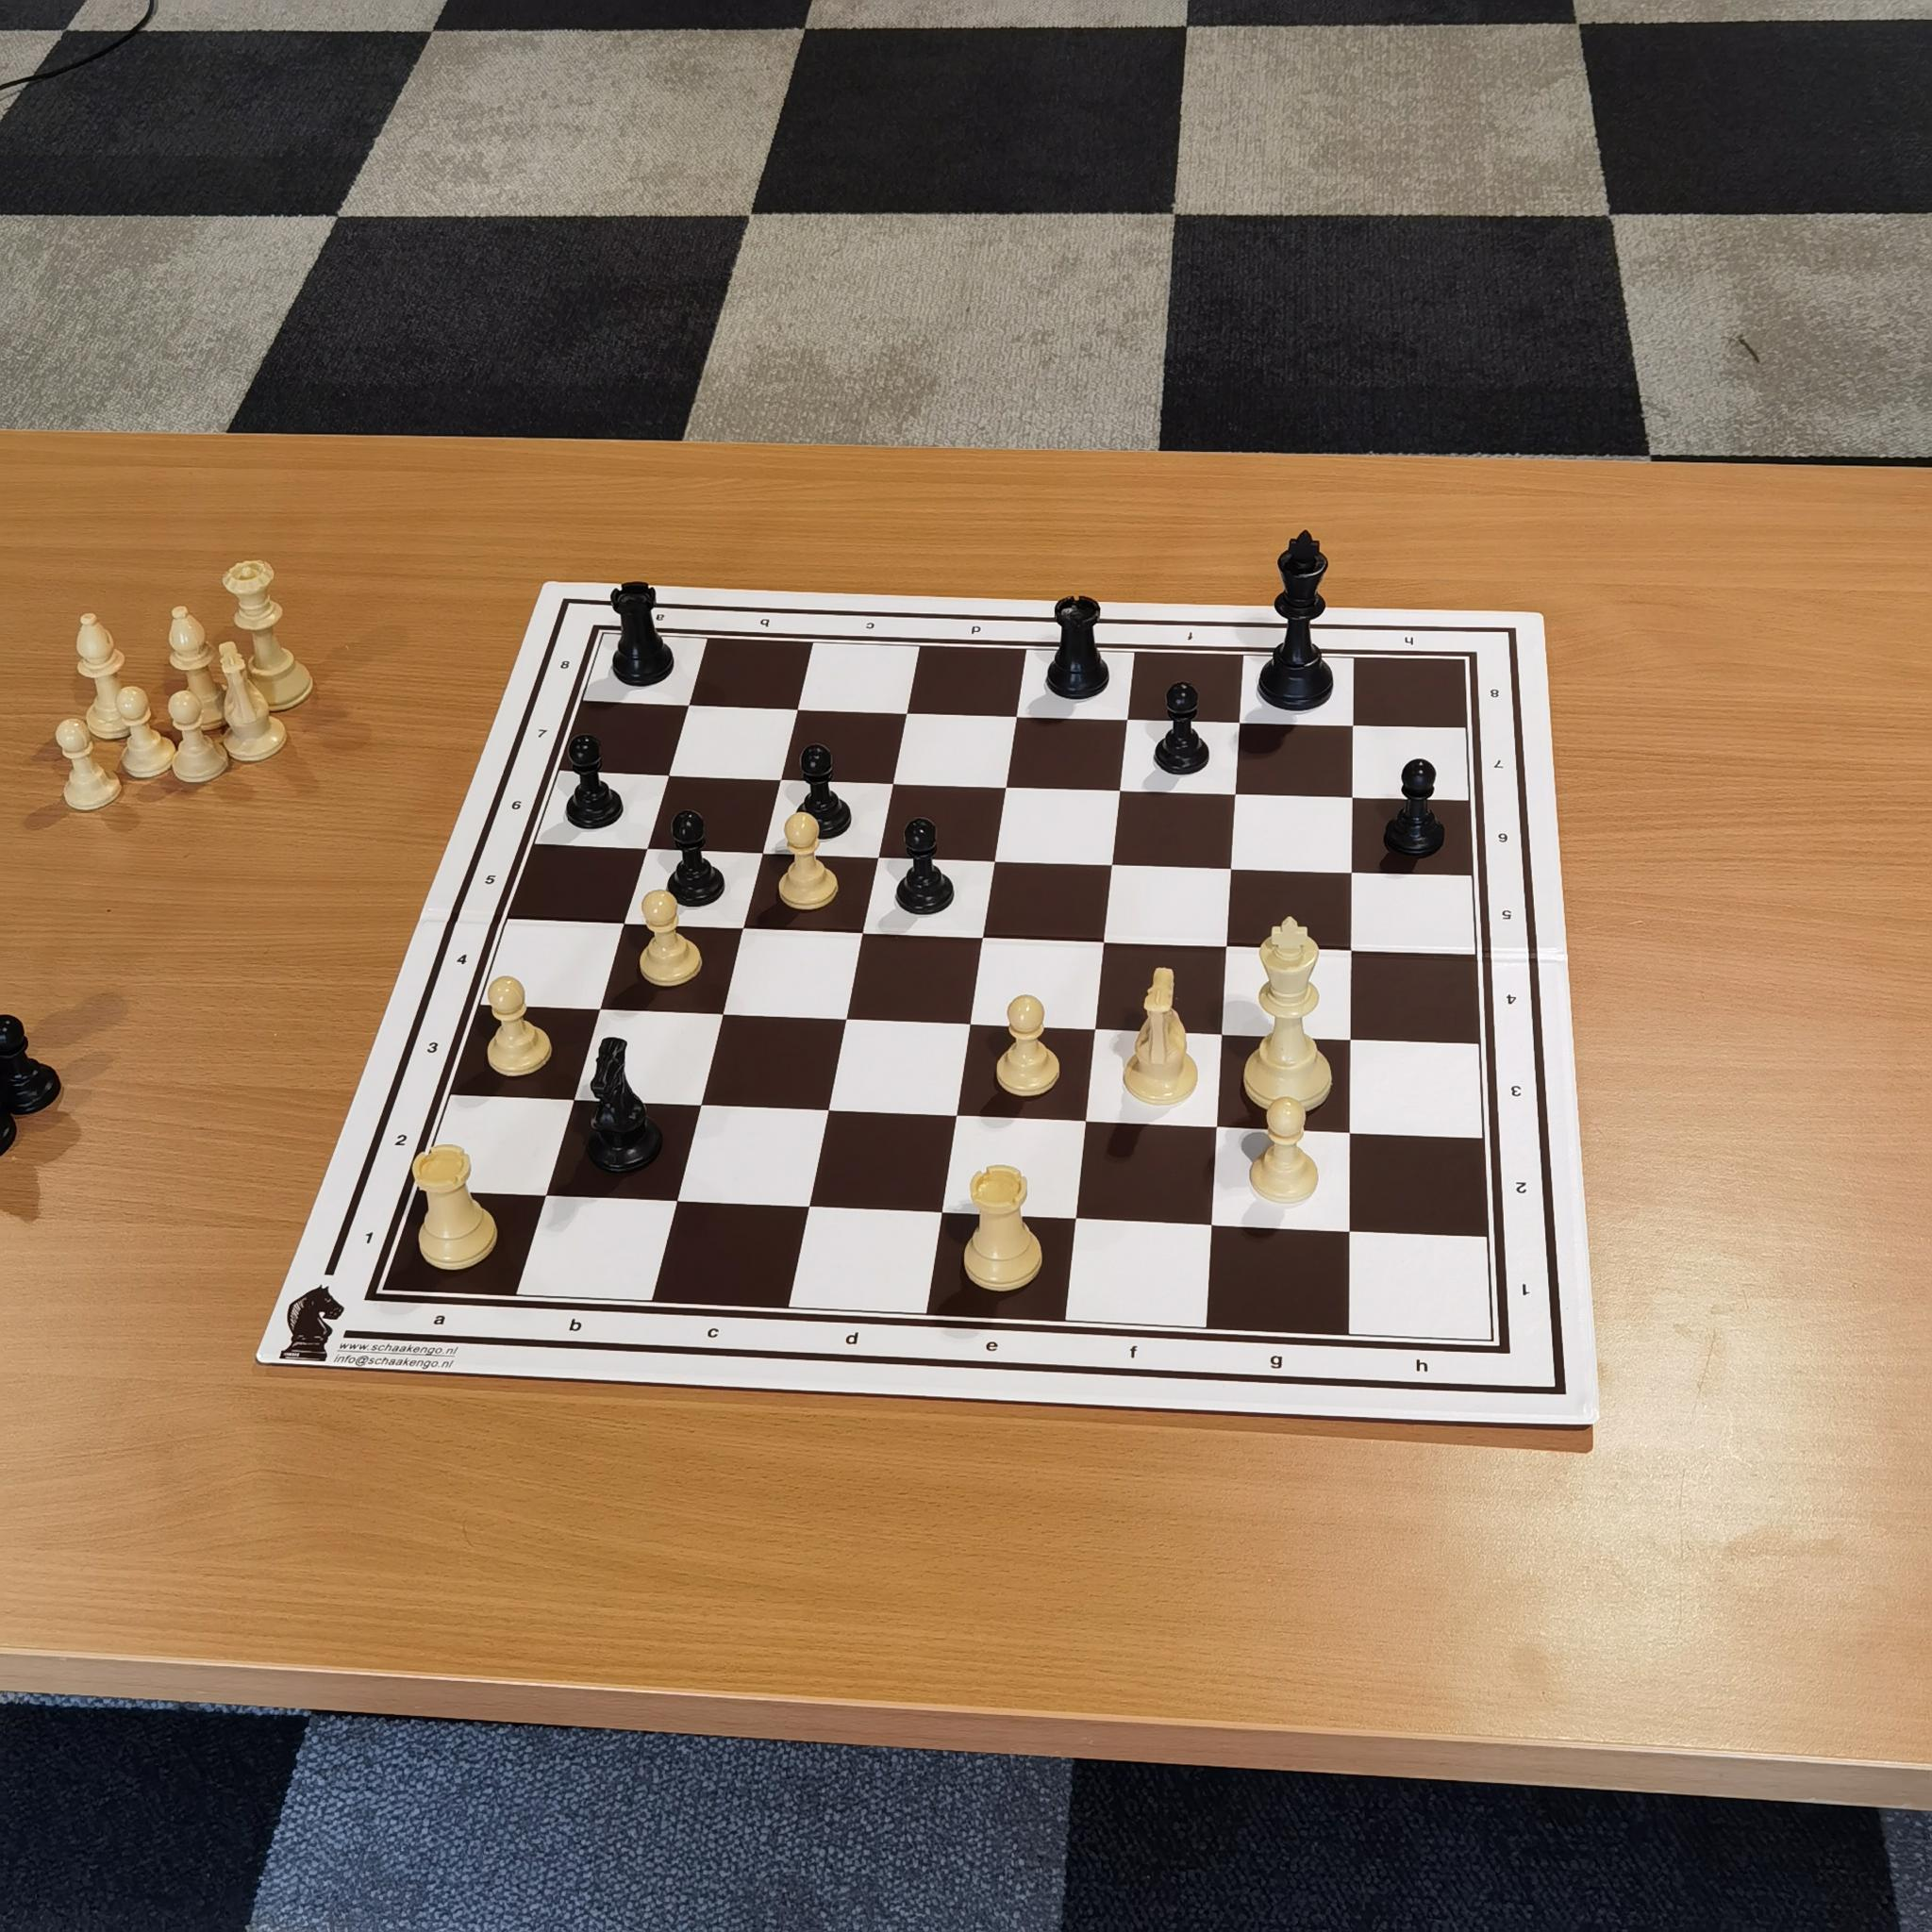corners: (354, 1277, 395, 1320), (1477, 1334, 1520, 1375), (1451, 642, 1490, 674), (580, 619, 612, 649)
eight: (1479, 674, 1513, 713), (554, 648, 579, 678)
one: (349, 1219, 391, 1254), (1511, 1267, 1541, 1307)
